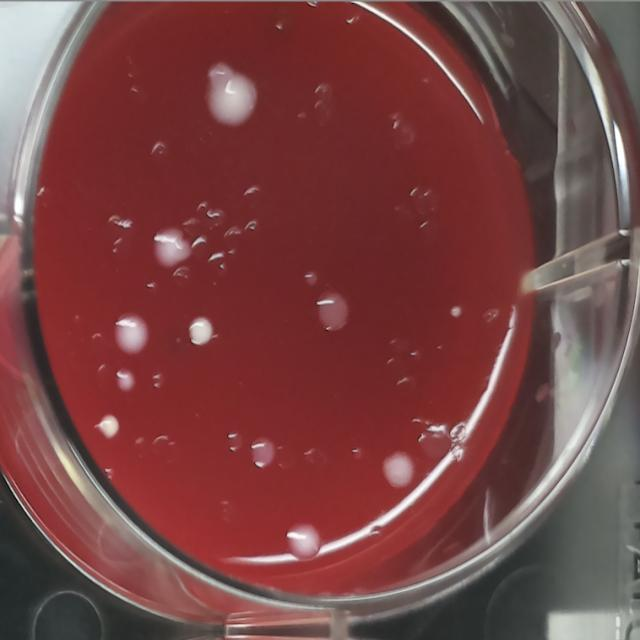Staphylococcus: (185, 315, 214, 349), (96, 412, 120, 442), (449, 303, 462, 321)
